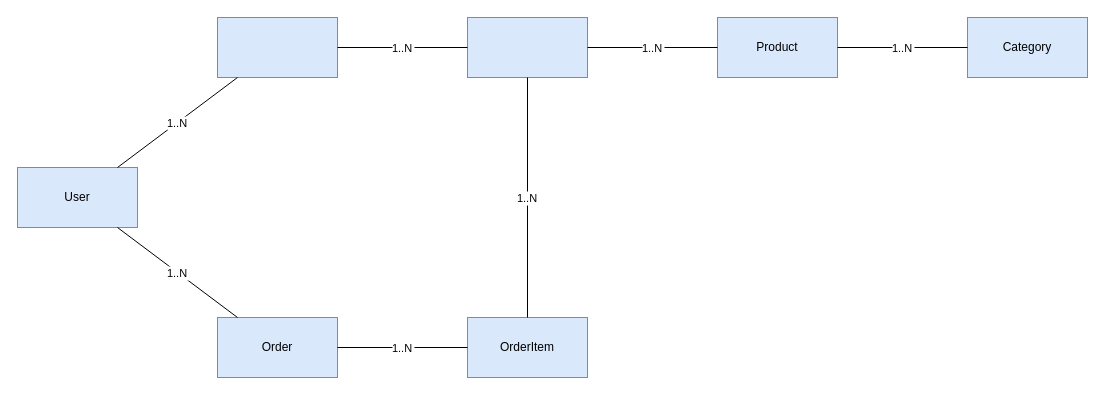
The diagram is 1105 pixels wide and 395 high, and some of its shapes have lost their labels. The shapes that lost their labels are listed below. From the top down, each one's centre as x and y in pixels, then its label:
pixel 277 47: Cart
pixel 527 47: ProductVariant
